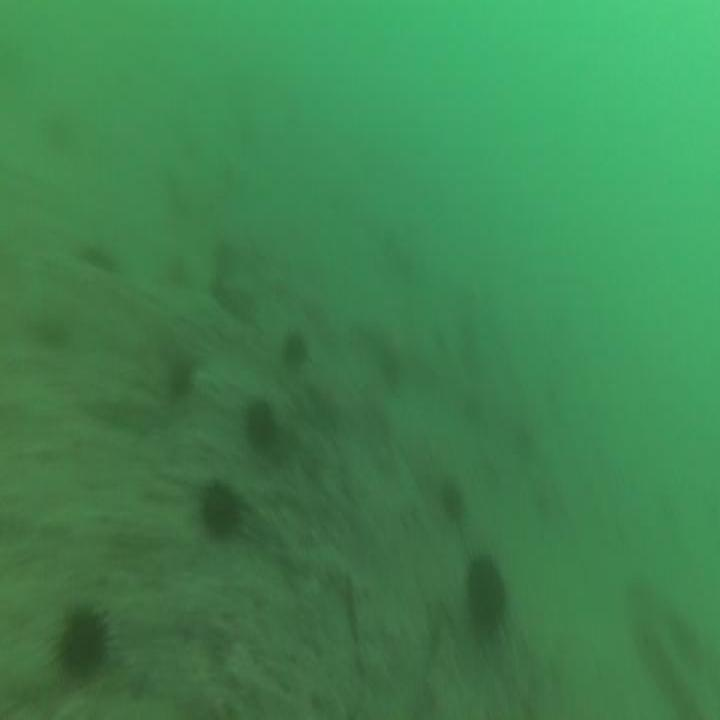echinus: (468, 558, 506, 633), (62, 615, 107, 677), (202, 484, 240, 538), (249, 404, 271, 454), (168, 356, 194, 398), (441, 476, 464, 522), (283, 336, 308, 366)
starfish: (114, 393, 169, 437)
